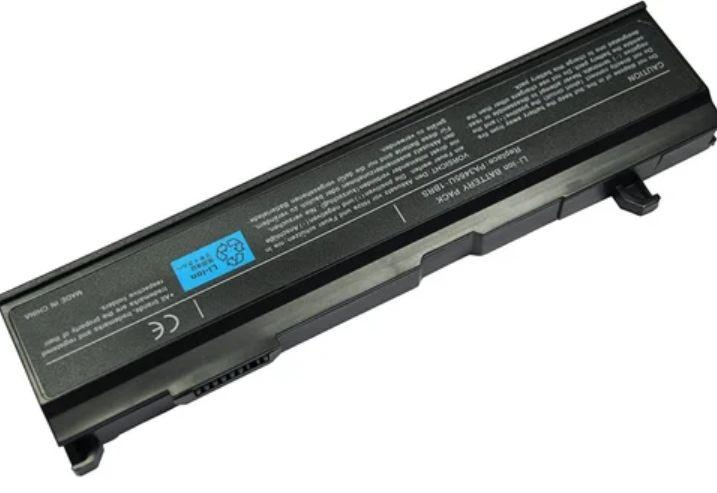battery: (0, 0, 717, 493)
